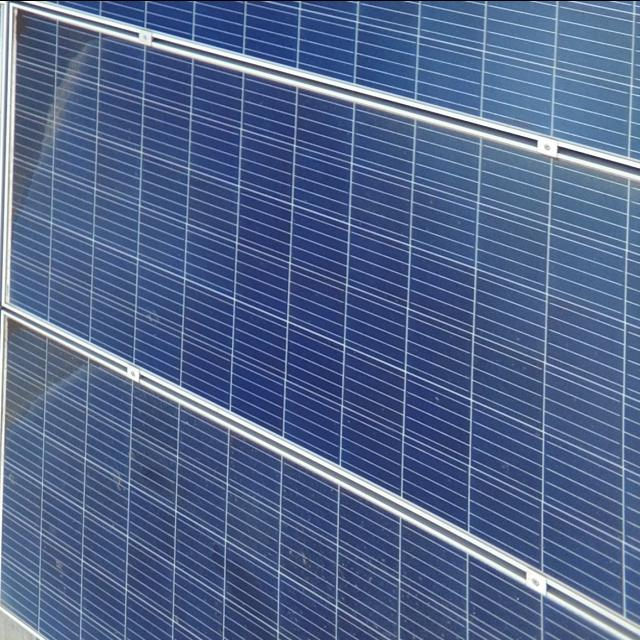Dust: (0, 8, 97, 266), (2, 318, 78, 462)
